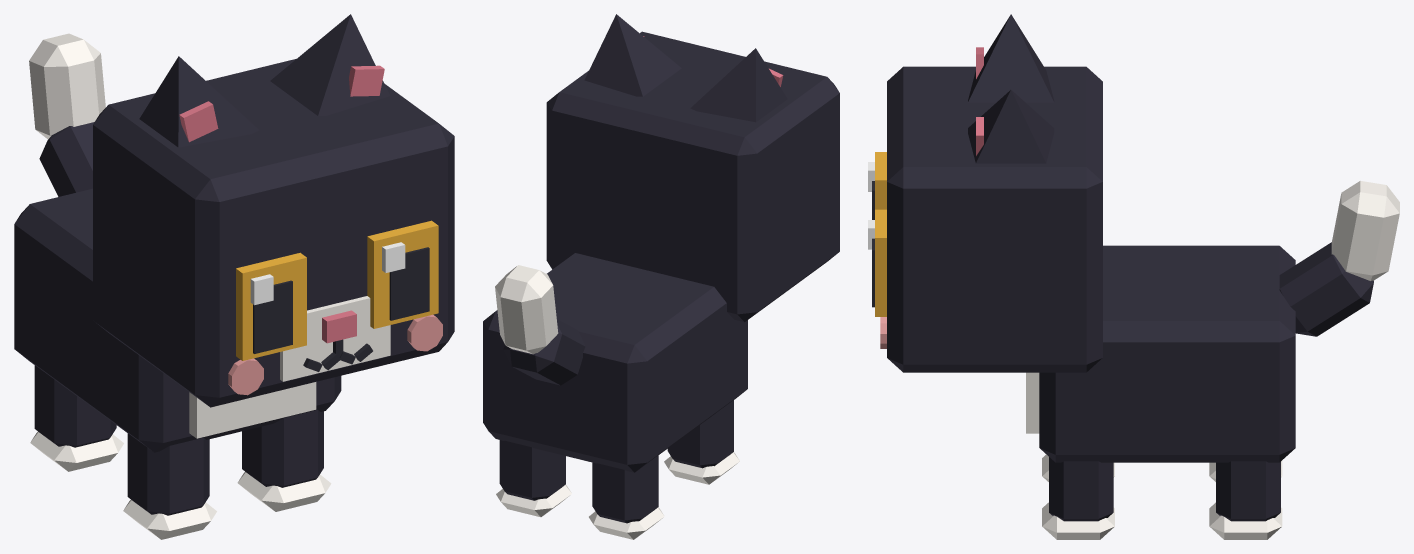
Rendered from CleanACat_Cat_Tux.fbx.
The picture shows the model from 3 angles, left to right: view 1: azimuth 30°, elevation 25°; view 2: azimuth 150°, elevation 25°; view 3: azimuth 270°, elevation 25°; orthographic projection. The views are drawn at different scales.
Visible parts, largest first — view 1: CleanACat_Cat_Tux_Head, CleanACat_Cat_Tux_Body, CleanACat_Cat_Tux_Tail, CleanACat_Cat_Tux_LegF2, CleanACat_Cat_Tux_LegF1, CleanACat_Cat_Tux_Eye1, CleanACat_Cat_Tux_Eye2, CleanACat_Cat_Tux_EarL, CleanACat_Cat_Tux_LegB2, CleanACat_Cat_Tux_EarR; view 2: CleanACat_Cat_Tux_Head, CleanACat_Cat_Tux_Body, CleanACat_Cat_Tux_Tail, CleanACat_Cat_Tux_LegB2, CleanACat_Cat_Tux_EarL, CleanACat_Cat_Tux_LegB1, CleanACat_Cat_Tux_EarR, CleanACat_Cat_Tux_LegF2; view 3: CleanACat_Cat_Tux_Head, CleanACat_Cat_Tux_Body, CleanACat_Cat_Tux_Tail, CleanACat_Cat_Tux_LegB1, CleanACat_Cat_Tux_LegF1, CleanACat_Cat_Tux_EarL, CleanACat_Cat_Tux_EarR, CleanACat_Cat_Tux_Eye1, CleanACat_Cat_Tux_Eye2.
Part boxes in pixels (left/top/right/bottom): CleanACat_Cat_Tux_Head: left=93, top=59, right=454, bottom=407; CleanACat_Cat_Tux_Body: left=14, top=188, right=341, bottom=452; CleanACat_Cat_Tux_Tail: left=29, top=33, right=105, bottom=196; CleanACat_Cat_Tux_LegF2: left=123, top=433, right=216, bottom=539; CleanACat_Cat_Tux_LegF1: left=237, top=409, right=331, bottom=511; CleanACat_Cat_Tux_Eye1: left=367, top=220, right=438, bottom=328; CleanACat_Cat_Tux_Eye2: left=236, top=252, right=306, bottom=360; CleanACat_Cat_Tux_EarL: left=270, top=14, right=389, bottom=115; CleanACat_Cat_Tux_LegB2: left=30, top=365, right=123, bottom=471; CleanACat_Cat_Tux_EarR: left=139, top=56, right=259, bottom=147; CleanACat_Cat_Tux_Head: left=546, top=31, right=839, bottom=322; CleanACat_Cat_Tux_Body: left=483, top=253, right=747, bottom=472; CleanACat_Cat_Tux_Tail: left=495, top=265, right=585, bottom=385; CleanACat_Cat_Tux_LegB2: left=589, top=455, right=664, bottom=539; CleanACat_Cat_Tux_EarL: left=584, top=14, right=681, bottom=96; CleanACat_Cat_Tux_LegB1: left=496, top=440, right=571, bottom=517; CleanACat_Cat_Tux_EarR: left=690, top=48, right=787, bottom=122; CleanACat_Cat_Tux_LegF2: left=664, top=400, right=739, bottom=484; CleanACat_Cat_Tux_Head: left=880, top=66, right=1102, bottom=372; CleanACat_Cat_Tux_Body: left=1026, top=245, right=1295, bottom=462; CleanACat_Cat_Tux_Tail: left=1279, top=181, right=1399, bottom=336; CleanACat_Cat_Tux_LegB1: left=1209, top=461, right=1282, bottom=539; CleanACat_Cat_Tux_LegF1: left=1042, top=457, right=1114, bottom=539; CleanACat_Cat_Tux_EarL: left=968, top=90, right=1054, bottom=163; CleanACat_Cat_Tux_EarR: left=968, top=14, right=1054, bottom=102; CleanACat_Cat_Tux_Eye1: left=868, top=209, right=886, bottom=316; CleanACat_Cat_Tux_Eye2: left=868, top=152, right=886, bottom=219.
Bounding box in the file's own units: 1 × 1.86 × 1.97.
1 material, 1 textured.
